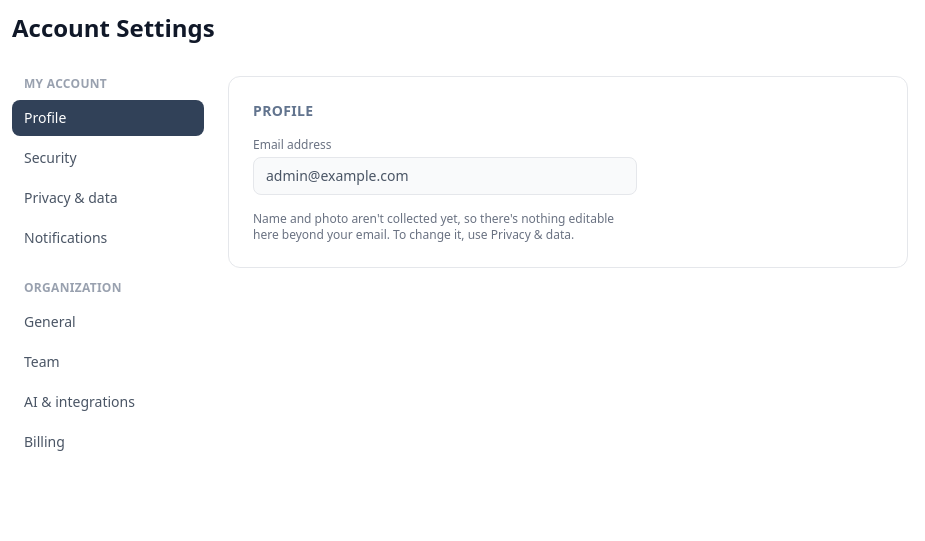
SettingsPage › shows company details and team members for a real company admin
The width and height of the screenshot is (925, 541).
What coordinates should you click on to do the following:
click the button "General"
I would click on:
 (108, 322)
Its box is [12,304,204,340].
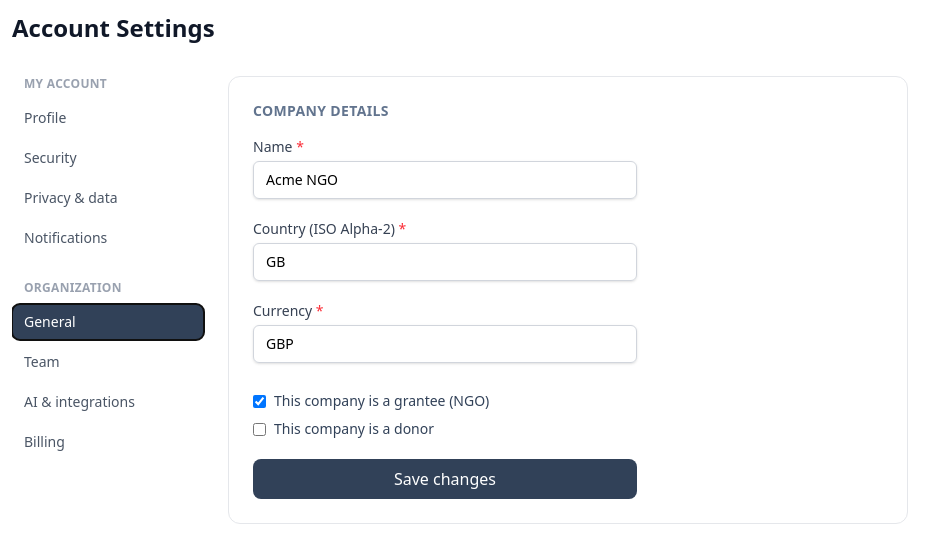
Check: the heading "Company details" is shown, box [253,101,389,121]
What coordinates should you click on to do the following:
click the button "Team"
I would click on:
 (108, 362)
Its box is [12,344,204,380].
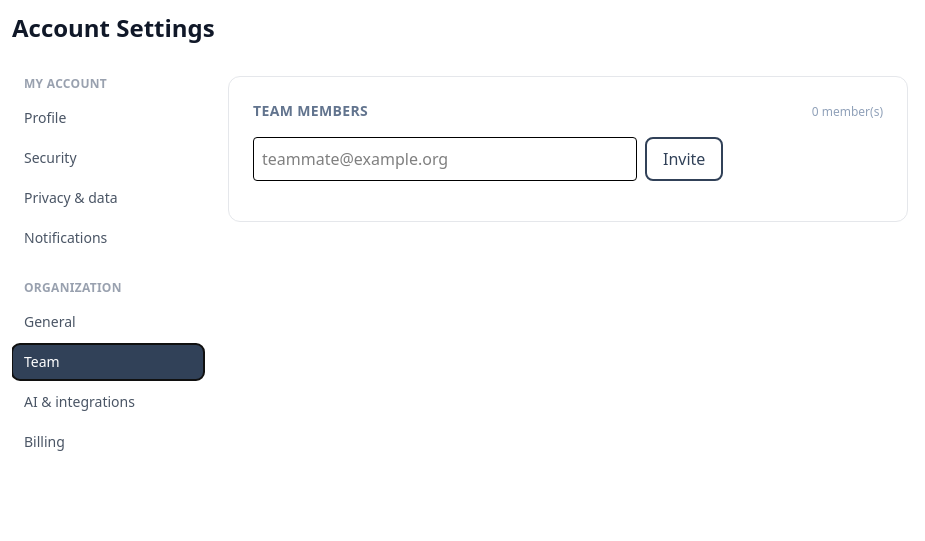
Check: the heading "Team members" is shown, box [253,101,368,121]
